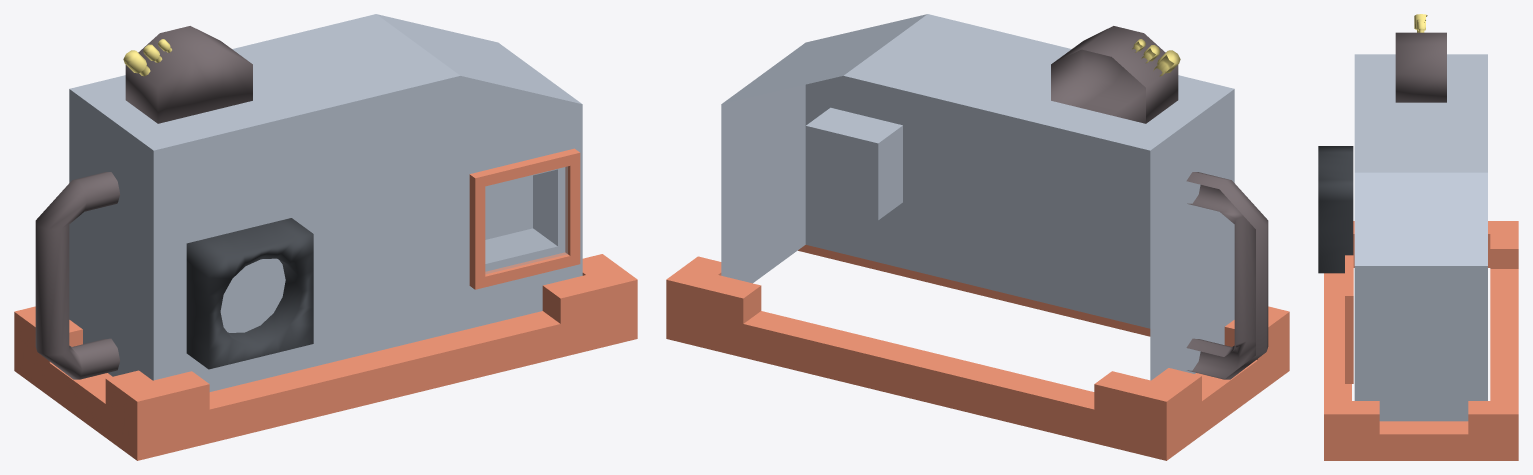
Rendered from FoodMaker.fbx.
3 views of the same model, side by side, from view 1: azimuth 30°, elevation 25°; view 2: azimuth 150°, elevation 25°; view 3: azimuth 270°, elevation 25° (orthographic). The views are drawn at different scales.
Parts seen in each view (by area): view 1: polySurface1, Cookengine:pCube2, Cookengine:pCube6, Cookengine:pCylinder1, Cookengine:pCube5, polySurface2; view 2: polySurface1, Cookengine:pCube2, Cookengine:pCube5, Cookengine:pCylinder1; view 3: polySurface1, Cookengine:pCube2, Cookengine:pCube6, Cookengine:pCube5, polySurface2.
Boxes of the visible parts, <box> form: polySurface1: <box>69,14,582,391</box>; Cookengine:pCube2: <box>14,254,637,460</box>; Cookengine:pCube6: <box>186,218,313,369</box>; Cookengine:pCylinder1: <box>35,172,120,379</box>; Cookengine:pCube5: <box>125,26,252,123</box>; polySurface2: <box>469,148,580,289</box>; polySurface1: <box>721,14,1234,380</box>; Cookengine:pCube2: <box>666,245,1289,460</box>; Cookengine:pCube5: <box>1051,26,1178,123</box>; Cookengine:pCylinder1: <box>1186,172,1268,379</box>; polySurface1: <box>1354,54,1487,421</box>; Cookengine:pCube2: <box>1324,221,1518,460</box>; Cookengine:pCube6: <box>1318,146,1353,273</box>; Cookengine:pCube5: <box>1395,32,1446,102</box>; polySurface2: <box>1345,255,1353,383</box>.
Size of the model in its own units: 23.55 by 14.83 by 9.59.
